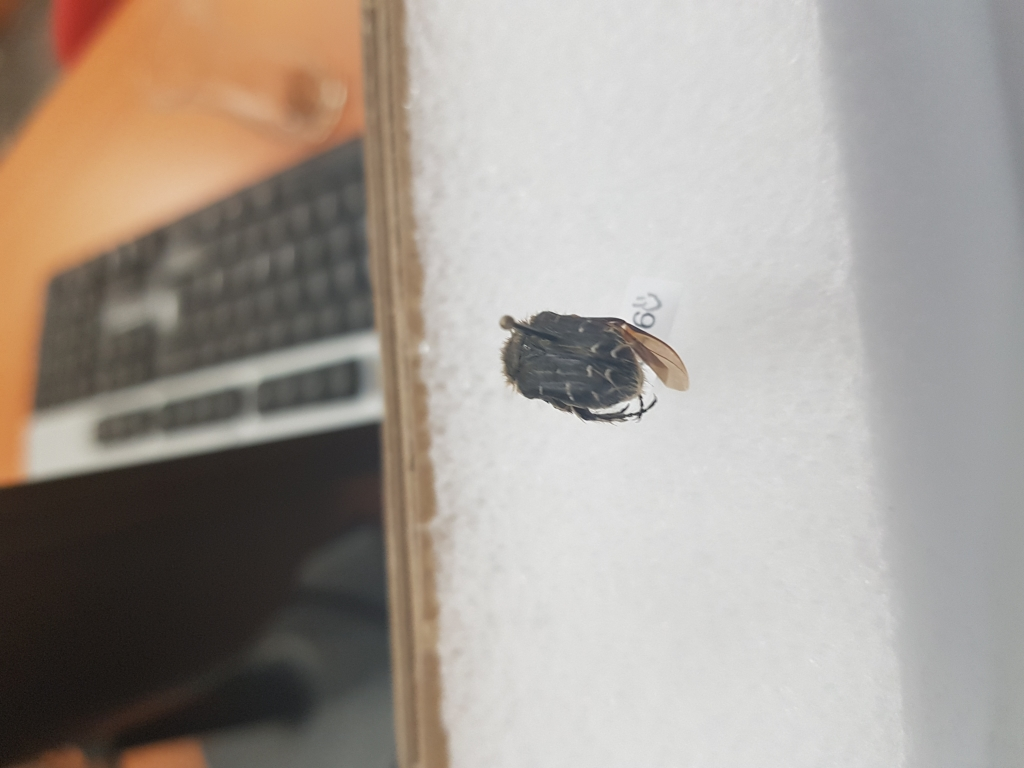Tropinota_senicula: (486, 305, 708, 435)
